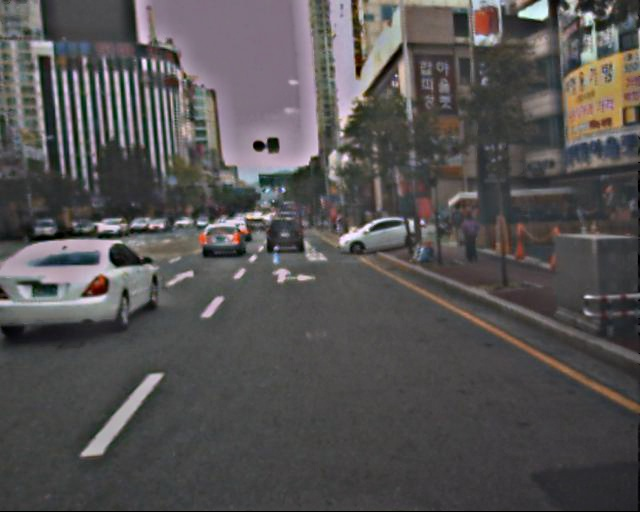person: (460, 211, 483, 267), (450, 200, 470, 249)
